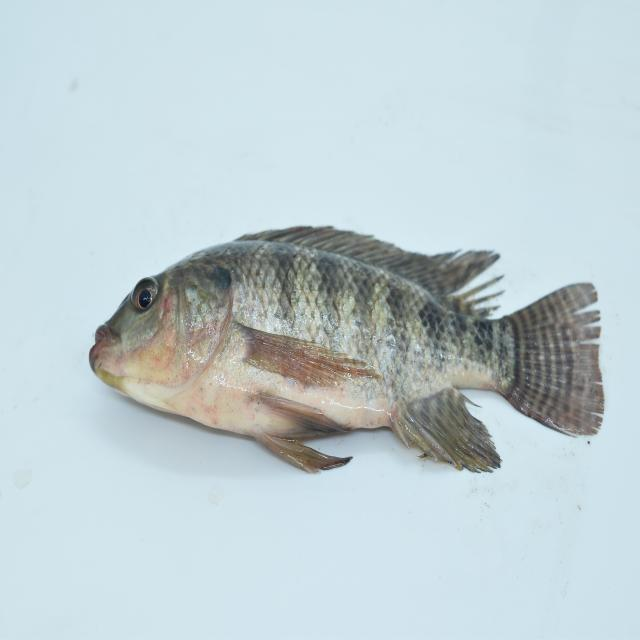Columnaris Disease: (74, 208, 607, 492)
